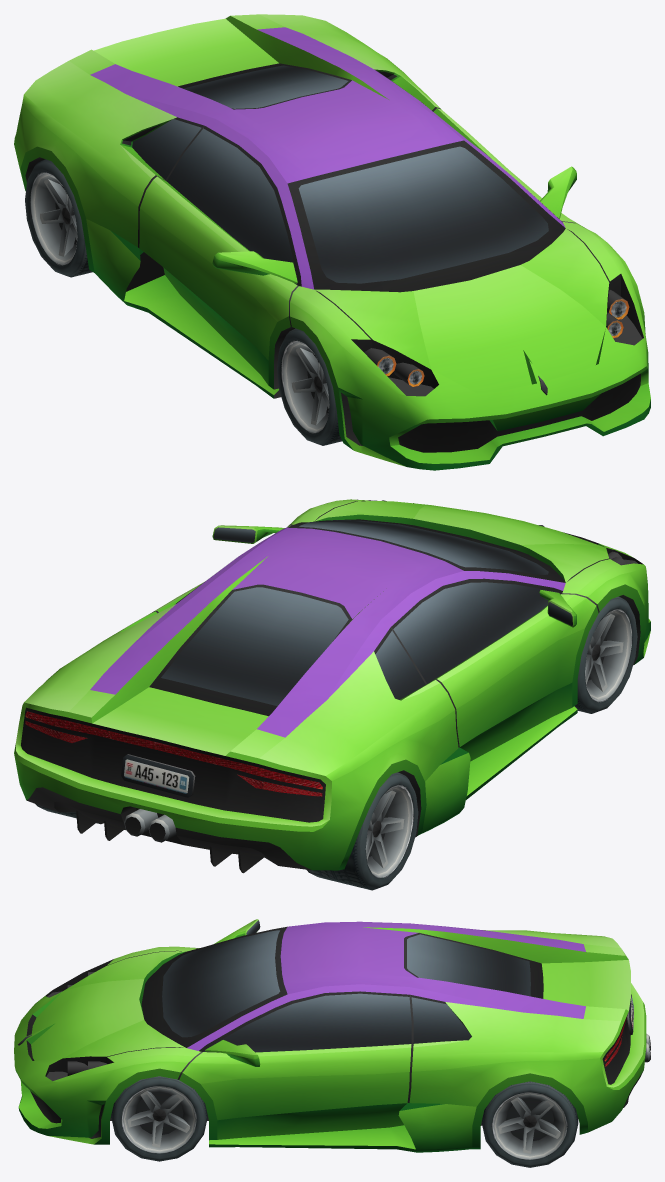
File: VHC0110007.FBX
3 renders of one model, top to bottom at view 1: azimuth 30°, elevation 25°; view 2: azimuth 150°, elevation 25°; view 3: azimuth 270°, elevation 25°, orthographic. The views are drawn at different scales.
Parts seen in each view (by area): view 1: smVHC0110007; view 2: smVHC0110007; view 3: smVHC0110007.
Boxes of the visible parts, x1=… form: smVHC0110007: x1=14, y1=14, x2=650, y2=470; smVHC0110007: x1=14, y1=499, x2=650, y2=890; smVHC0110007: x1=14, y1=919, x2=650, y2=1167.
Size of the model in its own units: 1.84 by 0.9674 by 3.55.
Materials: 1 (1 with a texture image).
